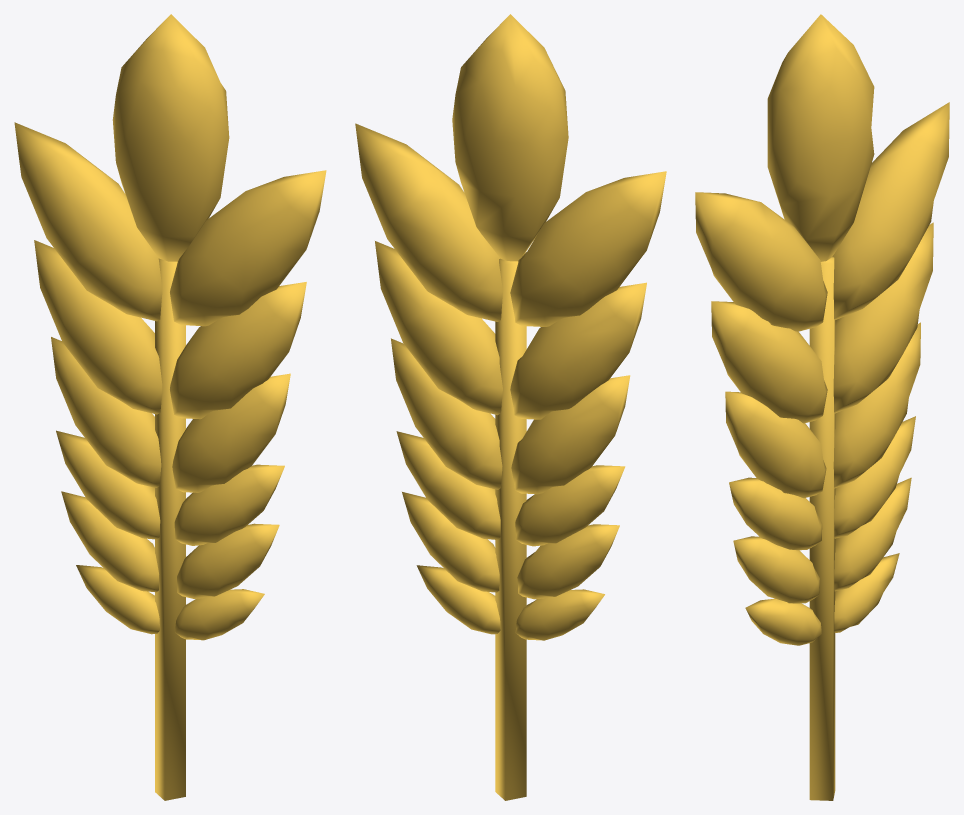
File: wheat.obj
3 views of the same model, side by side, from view 1: azimuth 30°, elevation 25°; view 2: azimuth 210°, elevation 25°; view 3: azimuth 270°, elevation 25° (orthographic).
Visible parts, largest first — view 1: wheat; view 2: wheat; view 3: wheat.
Boxes of the visible parts, x1=… form: wheat: x1=14, y1=14, x2=326, y2=800; wheat: x1=355, y1=14, x2=666, y2=800; wheat: x1=695, y1=14, x2=949, y2=800.
Bounding box in the file's own units: 0.1112 × 0.4403 × 0.13.
